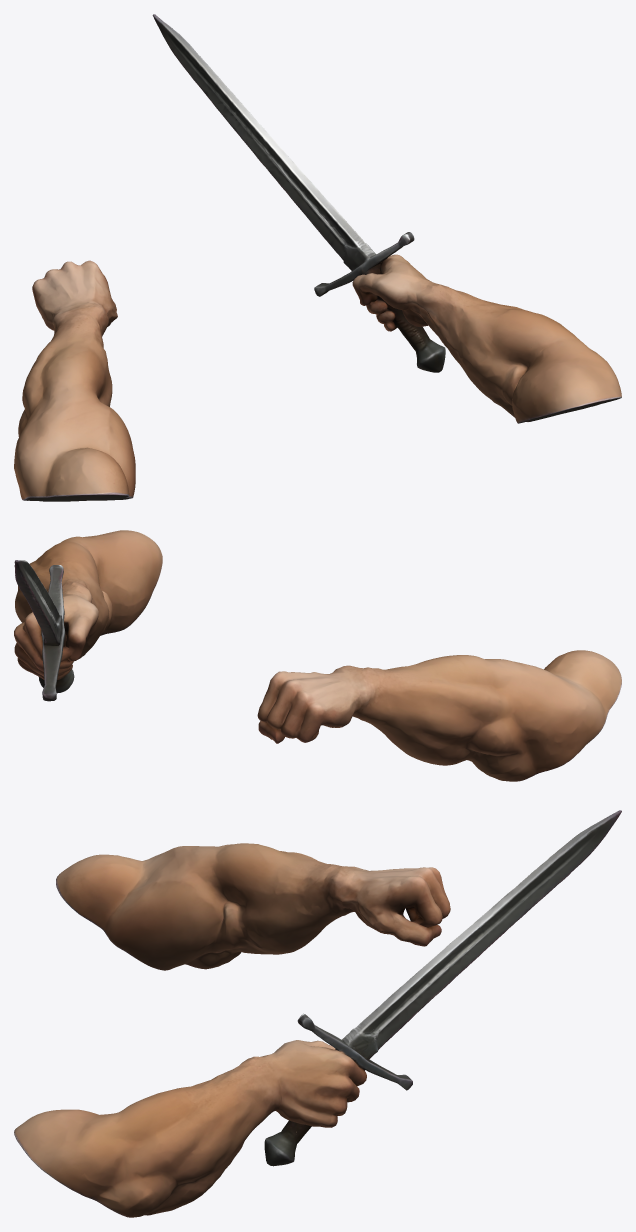
Rendered from arms_sword_hand_source.glb.
3 renders of one model, top to bottom at view 1: azimuth 30°, elevation 25°; view 2: azimuth 150°, elevation 25°; view 3: azimuth 270°, elevation 25°, orthographic. The views are drawn at different scales.
Visible parts, largest first — view 1: tripo_node_007e616b-6c71-4251-bbd3-7a16002bce1a; view 2: tripo_node_007e616b-6c71-4251-bbd3-7a16002bce1a; view 3: tripo_node_007e616b-6c71-4251-bbd3-7a16002bce1a.
Boxes of the visible parts, left/top/right/bottom form: tripo_node_007e616b-6c71-4251-bbd3-7a16002bce1a: left=14, top=14, right=621, bottom=501; tripo_node_007e616b-6c71-4251-bbd3-7a16002bce1a: left=14, top=530, right=621, bottom=781; tripo_node_007e616b-6c71-4251-bbd3-7a16002bce1a: left=14, top=810, right=621, bottom=1217.
Size of the model in its own units: 1 by 0.4938 by 0.8698.
Materials: 1 (1 with a texture image).
